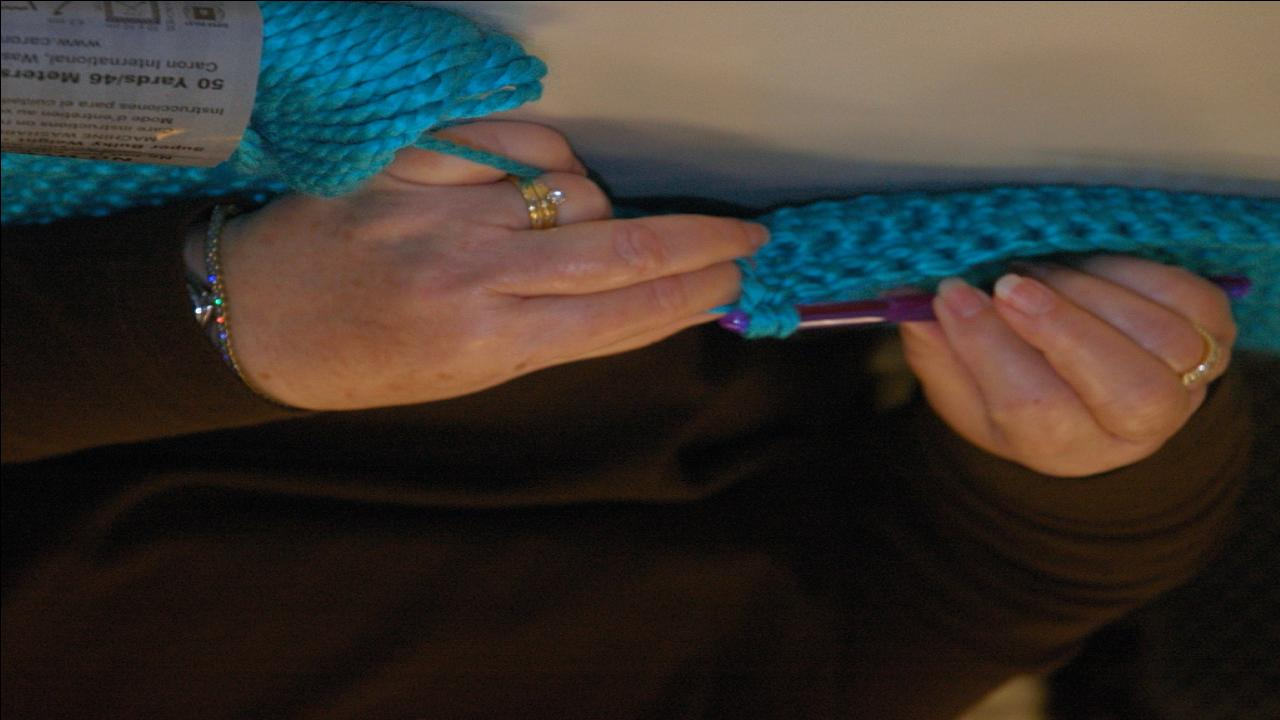ring: (512, 171, 565, 233), (1177, 328, 1219, 388)
